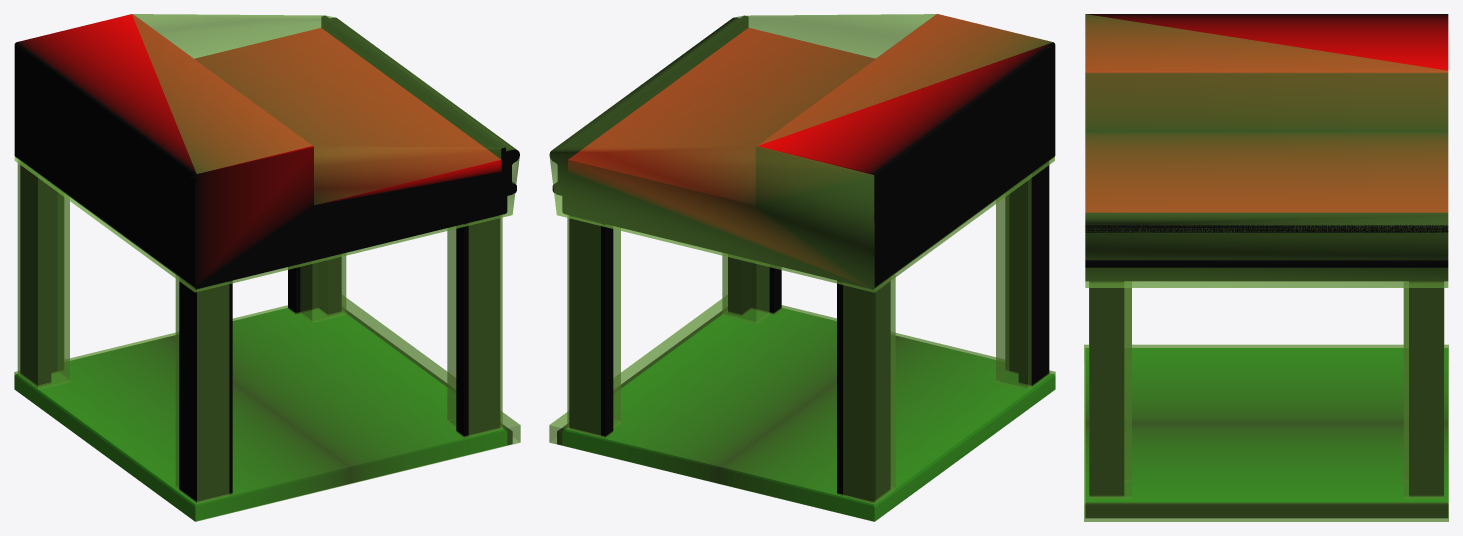
The model's file is M_md_Stall2_1m_04.fbx.
The picture shows the model from 3 angles, left to right: view 1: azimuth 30°, elevation 25°; view 2: azimuth 150°, elevation 25°; view 3: azimuth 270°, elevation 25°; orthographic projection.
Parts seen in each view (by area): view 1: M_md_Stall2_1m_04_LOD0, M_md_Stall2_1m_04_col_02, M_md_Stall2_1m_04_col_06, M_md_Stall2_1m_04_col_05, M_md_Stall2_1m_04_col_01, M_md_Stall2_1m_04_col_03, M_md_Stall2_1m_04_col_04; view 2: M_md_Stall2_1m_04_LOD0, M_md_Stall2_1m_04_col_06, M_md_Stall2_1m_04_col_02, M_md_Stall2_1m_04_col_05, M_md_Stall2_1m_04_col_04, M_md_Stall2_1m_04_col_03, M_md_Stall2_1m_04_col_01; view 3: M_md_Stall2_1m_04_LOD0, M_md_Stall2_1m_04_col_06, M_md_Stall2_1m_04_col_02, M_md_Stall2_1m_04_col_01, M_md_Stall2_1m_04_col_04.
Part boxes in pixels (x1=…): M_md_Stall2_1m_04_LOD0: x1=14, y1=14, x2=519, y2=521; M_md_Stall2_1m_04_col_02: x1=14, y1=295, x2=520, y2=521; M_md_Stall2_1m_04_col_06: x1=14, y1=14, x2=519, y2=292; M_md_Stall2_1m_04_col_05: x1=17, y1=160, x2=69, y2=389; M_md_Stall2_1m_04_col_01: x1=447, y1=215, x2=502, y2=436; M_md_Stall2_1m_04_col_03: x1=175, y1=275, x2=229, y2=503; M_md_Stall2_1m_04_col_04: x1=300, y1=253, x2=346, y2=322; M_md_Stall2_1m_04_LOD0: x1=549, y1=14, x2=1055, y2=521; M_md_Stall2_1m_04_col_06: x1=549, y1=14, x2=1054, y2=292; M_md_Stall2_1m_04_col_02: x1=549, y1=295, x2=1055, y2=521; M_md_Stall2_1m_04_col_05: x1=843, y1=275, x2=895, y2=504; M_md_Stall2_1m_04_col_04: x1=567, y1=215, x2=620, y2=437; M_md_Stall2_1m_04_col_03: x1=996, y1=178, x2=1031, y2=389; M_md_Stall2_1m_04_col_01: x1=722, y1=253, x2=769, y2=323; M_md_Stall2_1m_04_LOD0: x1=1085, y1=14, x2=1448, y2=518; M_md_Stall2_1m_04_col_06: x1=1085, y1=14, x2=1448, y2=287; M_md_Stall2_1m_04_col_02: x1=1084, y1=344, x2=1448, y2=521; M_md_Stall2_1m_04_col_01: x1=1089, y1=281, x2=1131, y2=498; M_md_Stall2_1m_04_col_04: x1=1403, y1=281, x2=1444, y2=498.
Size of what is drawn, in the model's own units: 104 by 106 by 100.
